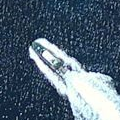ship: (22, 33, 92, 97)
